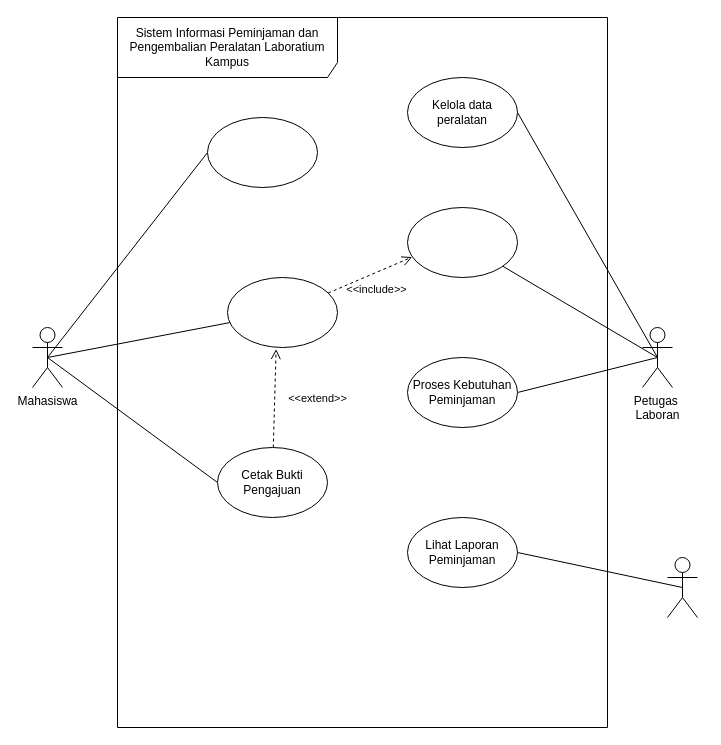
The diagram is 721 pixels wide and 745 high, and some of its shapes have lost their labels. The centre of each missing label's shape, as x and y in pixels:
"Ajukan Peminjaman" belongs at point (282, 312).
"Kepala Laboran" belongs at point (682, 587).
"Lihat Ketersediaan Peralatan" belongs at point (262, 152).
"Periksa Ketersediaan" belongs at point (462, 242).
